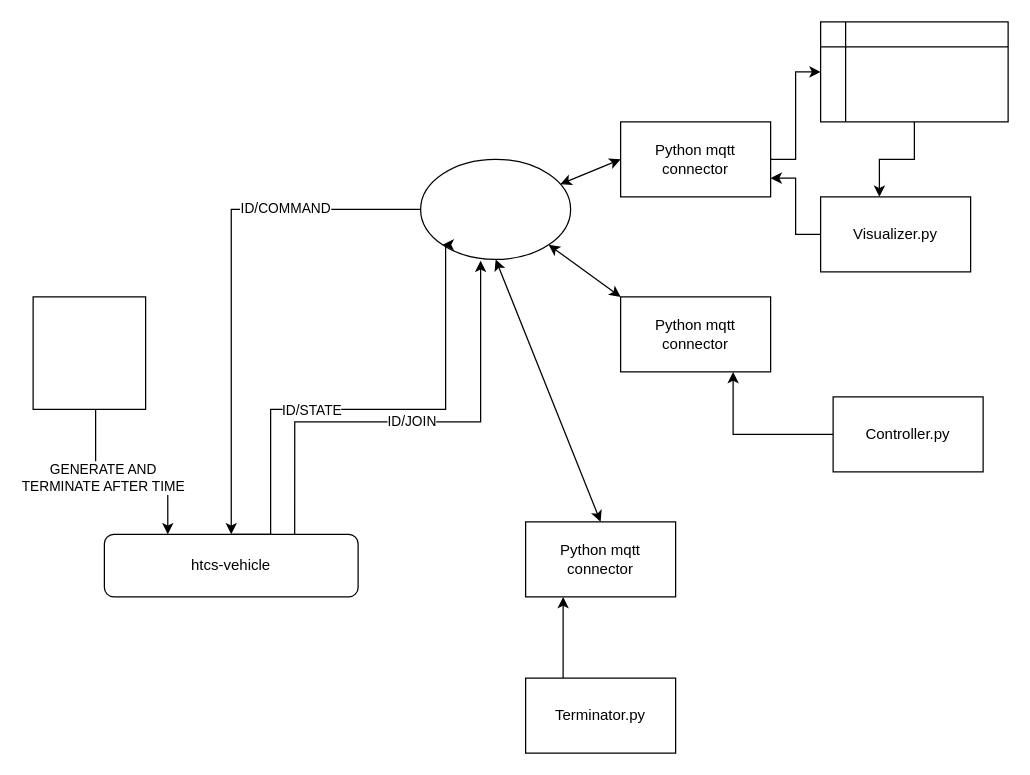
Some shapes in this 1030 by 775 pixel diagram are drawn without their labels. Here are the shapes that lost their labels. From the top down, the centre of each, then its label:
At point (913, 71): "Python local cars".
At point (495, 208): "MQTT Broker Mosquito running on Google VM".
At point (89, 352): "Generator.py".
